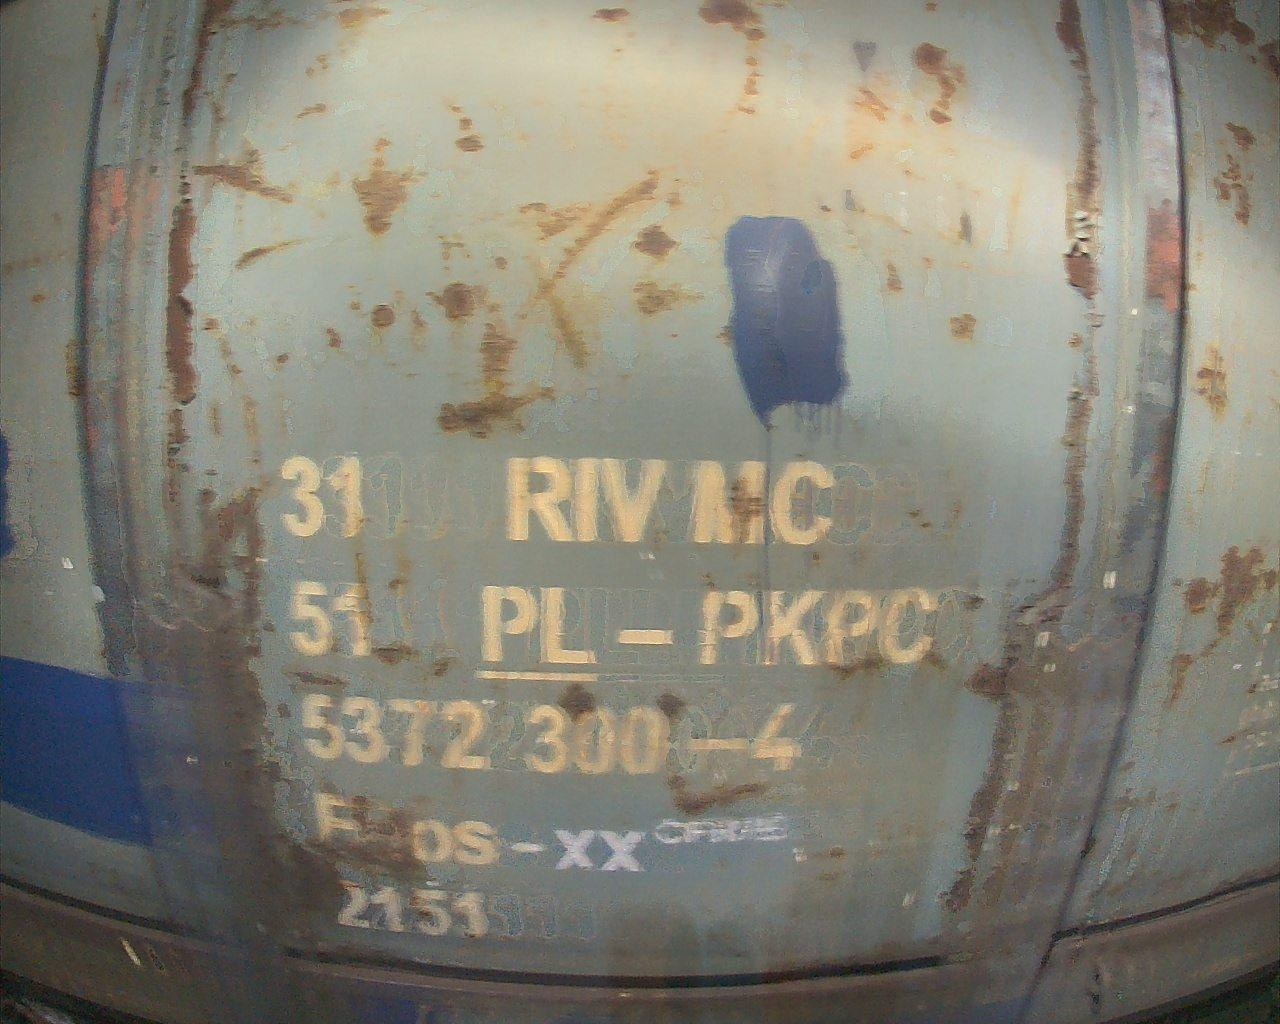UIC: (271, 452, 948, 947)
